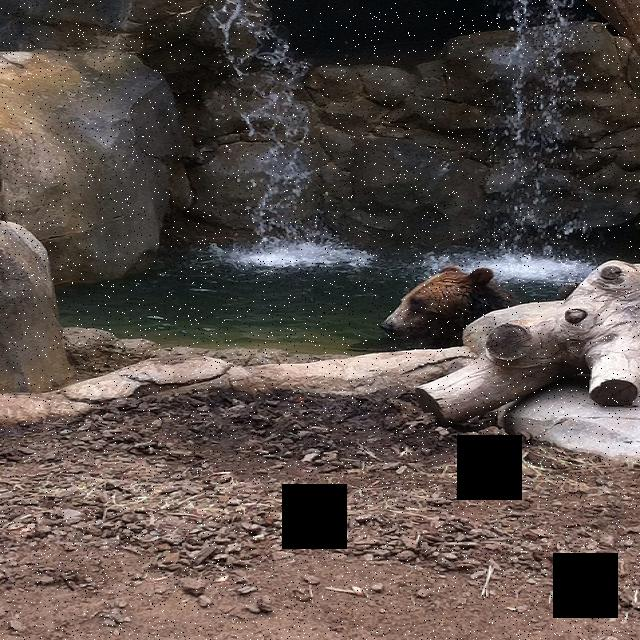Bear: (383, 261, 509, 344)
